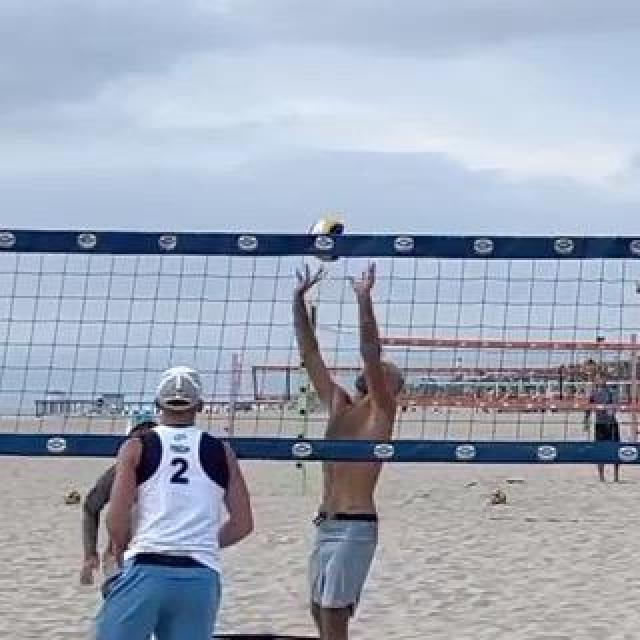volleyball: (306, 216, 350, 264), (490, 489, 508, 505), (64, 489, 82, 505)
